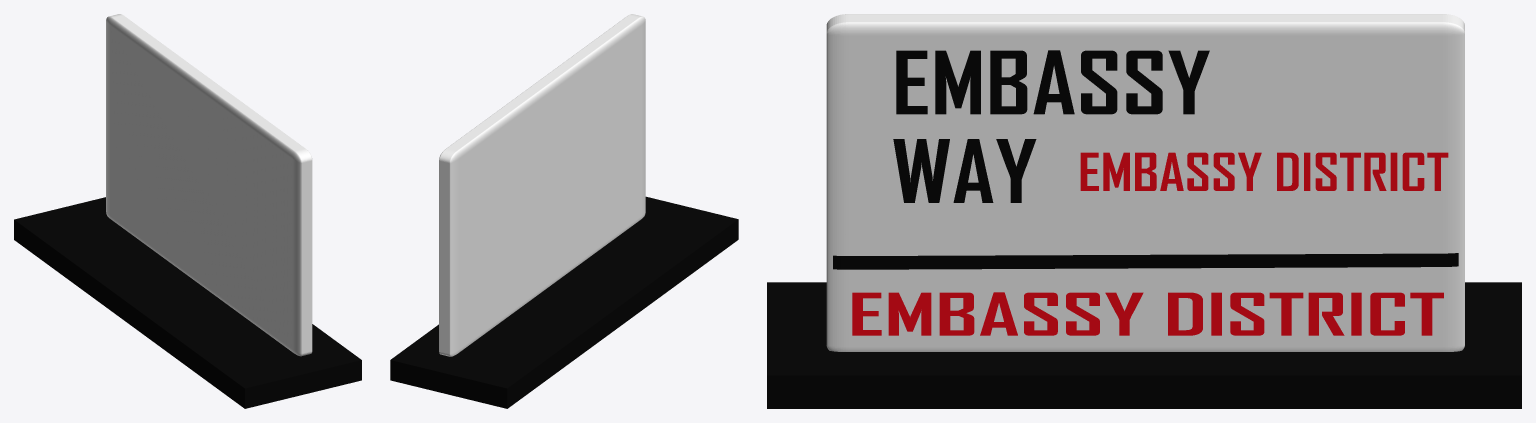
The model's file is embassy_district_sign_1B.fbx.
3 views of the same model, side by side, from view 1: azimuth 30°, elevation 25°; view 2: azimuth 150°, elevation 25°; view 3: azimuth 270°, elevation 25° (orthographic). The views are drawn at different scales.
Visible parts, largest first — view 1: Cube, Cube.001; view 2: Cube, Cube.001; view 3: Cube, Cube.001, Text.002, Text, Text.003, Text.001.
Boxes of the visible parts, x1,y1,x2,y2 form: Cube: (106, 14, 312, 356); Cube.001: (14, 197, 361, 408); Cube: (439, 14, 645, 356); Cube.001: (390, 196, 738, 408); Cube: (826, 14, 1464, 351); Cube.001: (767, 282, 1521, 408); Text.002: (852, 292, 1443, 335); Text: (896, 50, 1209, 114); Text.003: (1080, 152, 1448, 190); Text.001: (893, 139, 1036, 202).
Bounding box in the file's own units: 12 × 21.71 × 41.07.
